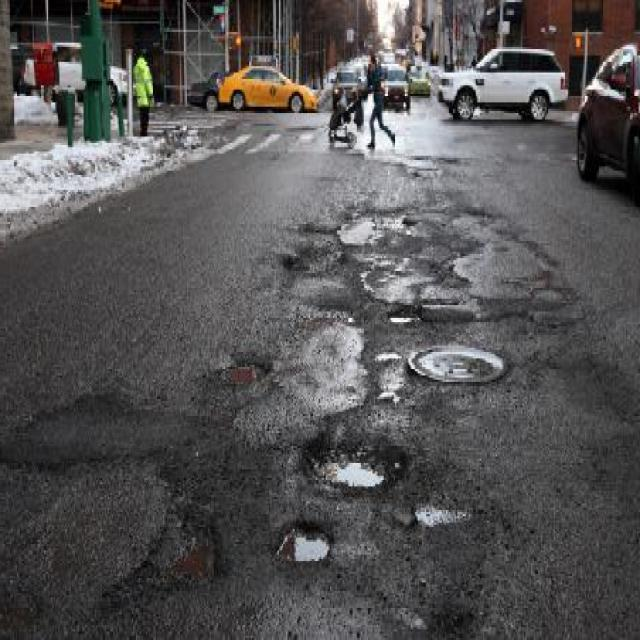pothole: (303, 435, 402, 495), (164, 518, 227, 589), (273, 512, 336, 567), (208, 352, 273, 388), (386, 305, 419, 324)
